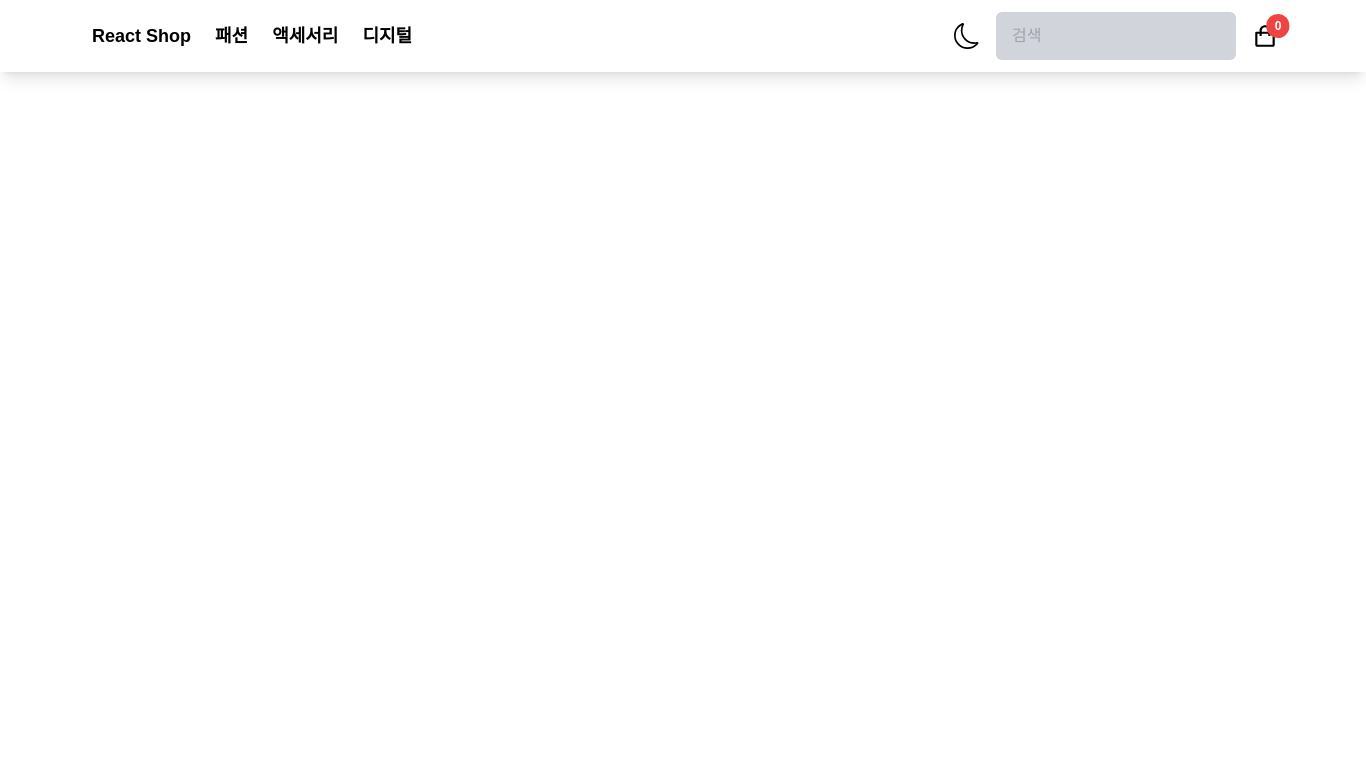
it: header 테스트 › 장바구니를 클릭시 정상적으로 이동이 되는가?
Step 1. Click the link with test id "shoppingBasket" → (1265, 35), box [1252, 26, 1278, 43]
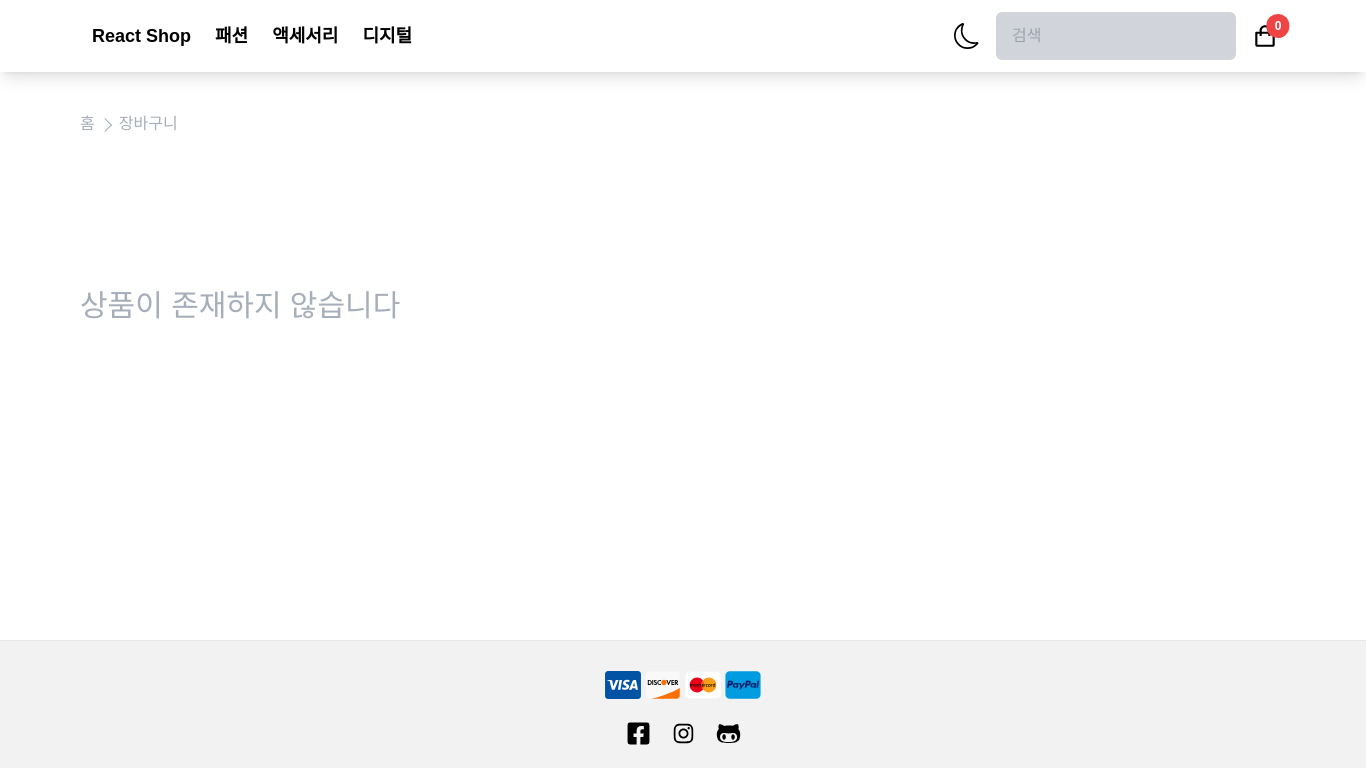
Expected: the list item "장바구니" is shown, [119, 112, 178, 136]
